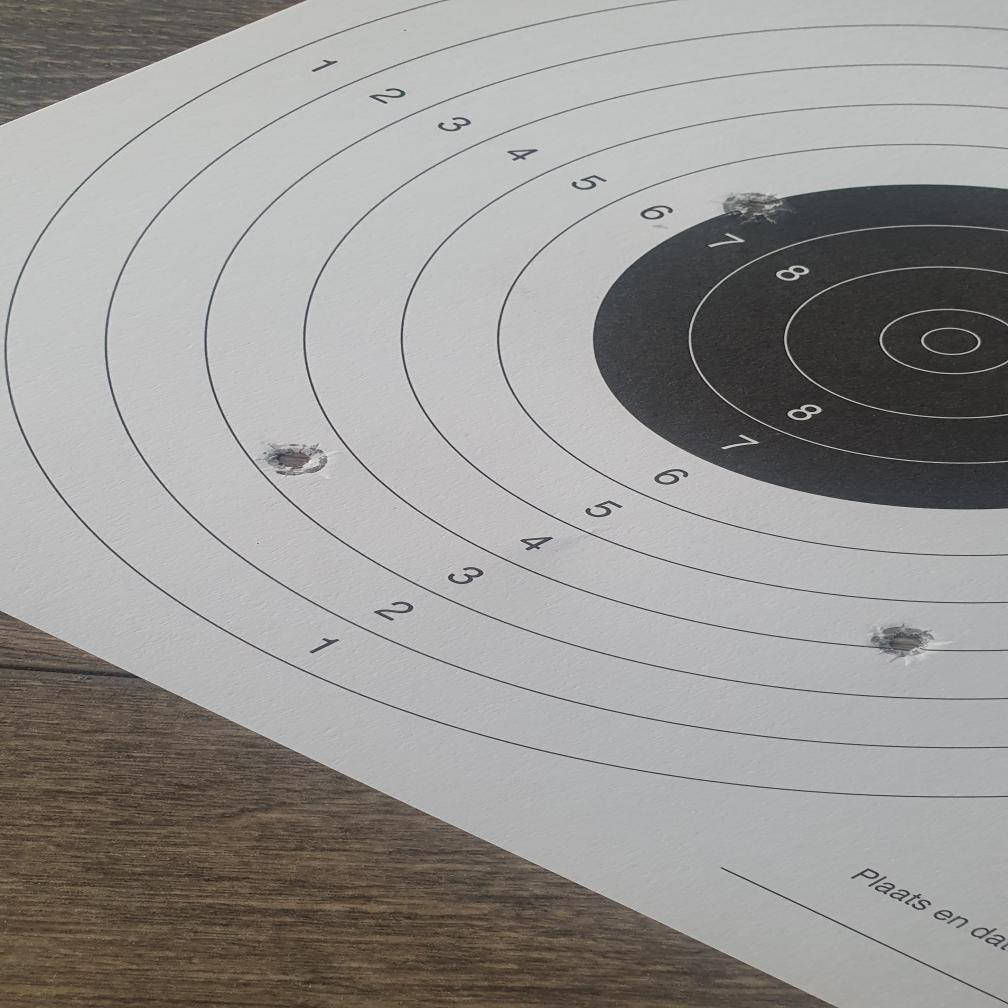3: (254, 439, 344, 480)
4: (865, 619, 949, 664)
7: (715, 189, 798, 224)
Target: (0, 0, 1008, 802)
black_contour: (591, 178, 1008, 510)
